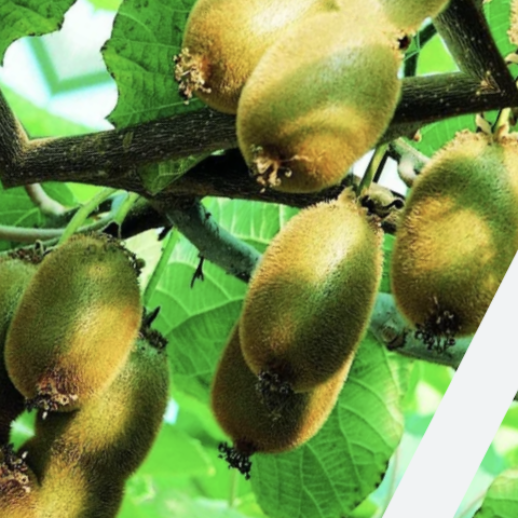kiwi: (190, 153, 438, 429), (207, 0, 453, 237), (326, 98, 518, 395), (0, 204, 183, 435)
